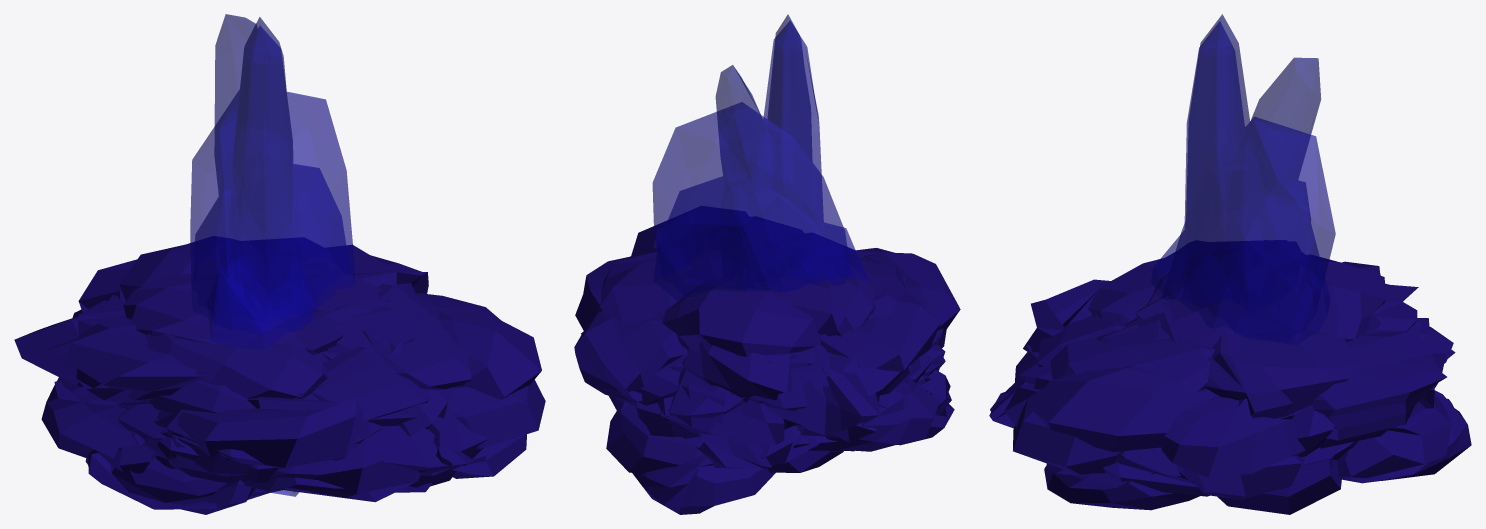
The model's file is crystal26.obj.
The picture shows the model from 3 angles, left to right: view 1: azimuth 30°, elevation 25°; view 2: azimuth 150°, elevation 25°; view 3: azimuth 270°, elevation 25°; orthographic projection. The views are drawn at different scales.
Parts seen in each view (by area): view 1: Cube.001, Circle.001, Circle; view 2: Cube.001, Circle.001, Circle; view 3: Cube.001, Circle.001, Circle.
Boxes of the visible parts, x1=… form: Cube.001: x1=14, y1=242, x2=545, y2=514; Circle.001: x1=190, y1=26, x2=355, y2=496; Circle: x1=214, y1=14, x2=297, y2=290; Cube.001: x1=574, y1=220, x2=960, y2=514; Circle.001: x1=652, y1=21, x2=868, y2=301; Circle: x1=715, y1=14, x2=813, y2=281; Cube.001: x1=989, y1=252, x2=1471, y2=514; Circle.001: x1=1151, y1=21, x2=1335, y2=344; Circle: x1=1185, y1=14, x2=1320, y2=291.
Bounding box in the file's own units: 3.32 × 3.73 × 3.51.
